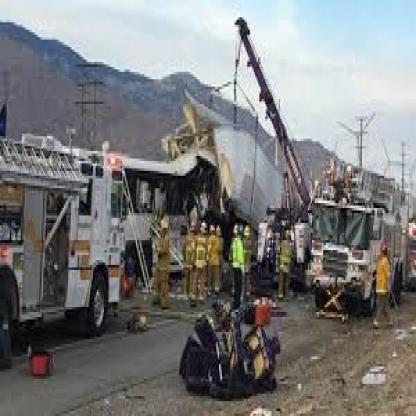accident: (93, 74, 289, 285)
